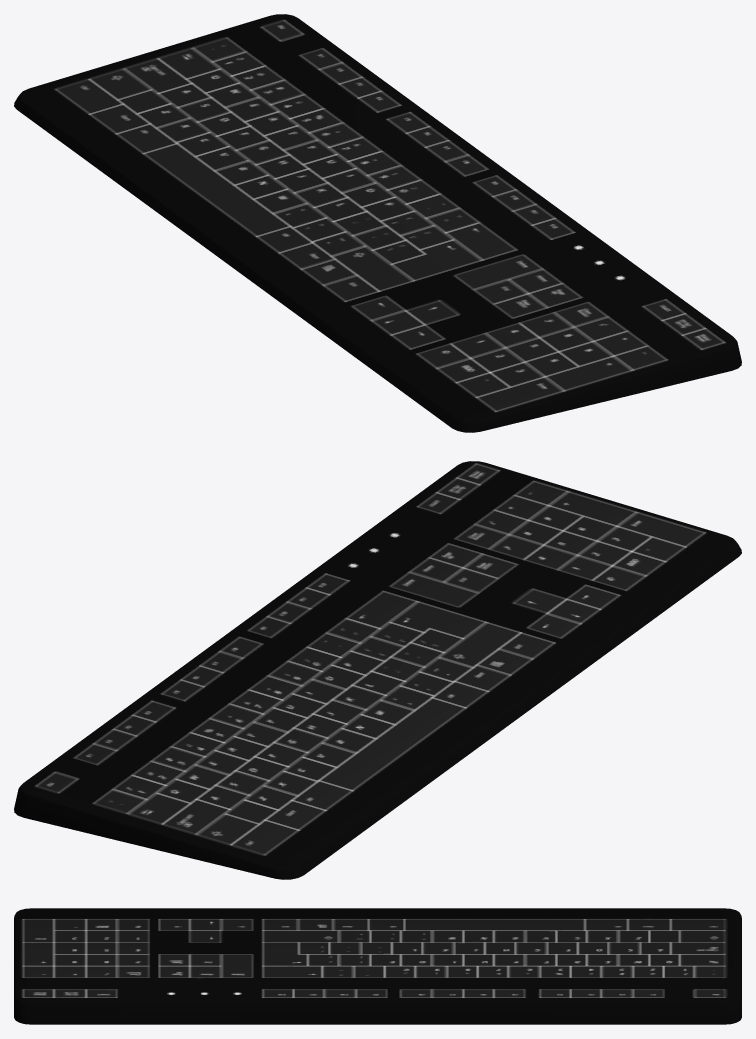
File: Office_-_keyboard.001.gltf
The picture shows the model from 3 angles, top to bottom: view 1: azimuth 30°, elevation 25°; view 2: azimuth 150°, elevation 25°; view 3: azimuth 270°, elevation 25°; orthographic projection. The views are drawn at different scales.
Visible parts, largest first — view 1: Office - keyboard_mesh; view 2: Office - keyboard_mesh; view 3: Office - keyboard_mesh.
Part boxes in pixels (x1=…): Office - keyboard_mesh: x1=14, y1=14, x2=741, y2=432; Office - keyboard_mesh: x1=14, y1=461, x2=741, y2=879; Office - keyboard_mesh: x1=14, y1=908, x2=741, y2=1024.
Size of what is drawn, in the model's own units: 0.2918 by 0.0243 by 0.8035.
1 material, 1 textured.
